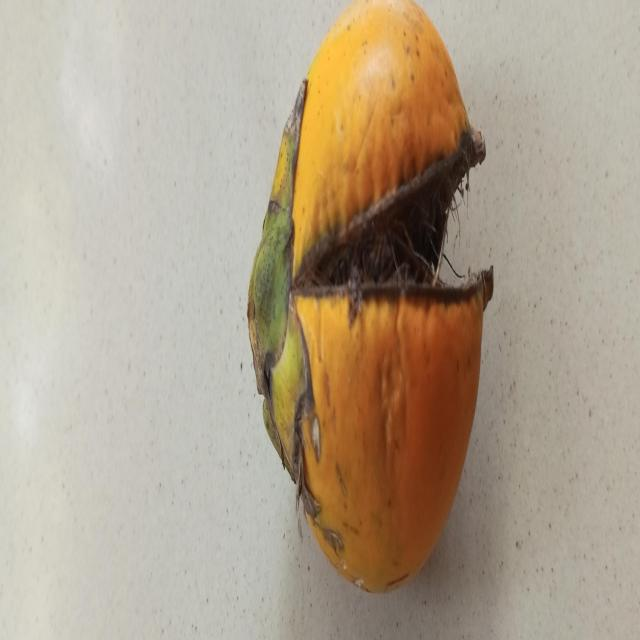damaged: (247, 0, 494, 593)
